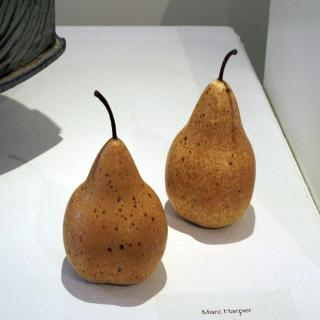Pear: (62, 137, 169, 285), (164, 79, 255, 230), (165, 78, 256, 229)
